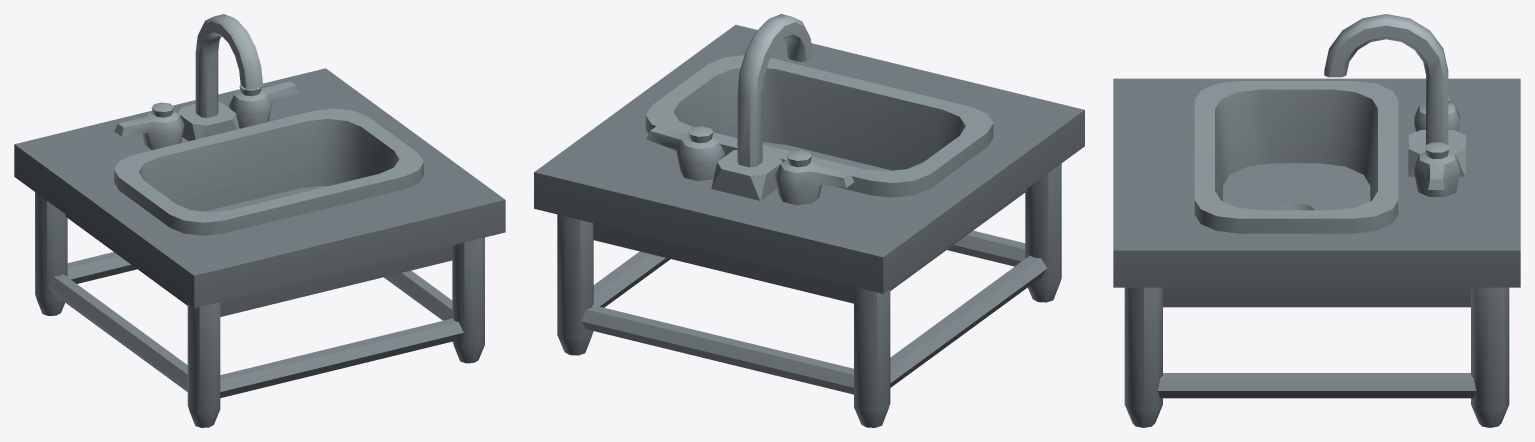
Rendered from kaykit-restaurant-bits-kitchentable-sink.glb.
3 renders of one model, left to right at view 1: azimuth 30°, elevation 25°; view 2: azimuth 150°, elevation 25°; view 3: azimuth 270°, elevation 25°, orthographic. The views are drawn at different scales.
Parts seen in each view (by area): view 1: kitchentable_sink; view 2: kitchentable_sink; view 3: kitchentable_sink.
Part boxes in pixels (left/top/right/bottom): kitchentable_sink: left=14, top=14, right=505, bottom=427; kitchentable_sink: left=534, top=14, right=1084, bottom=427; kitchentable_sink: left=1113, top=14, right=1520, bottom=427.
Size of the model in its own units: 2 by 1.81 by 2.
Materials: 1 (1 with a texture image).
